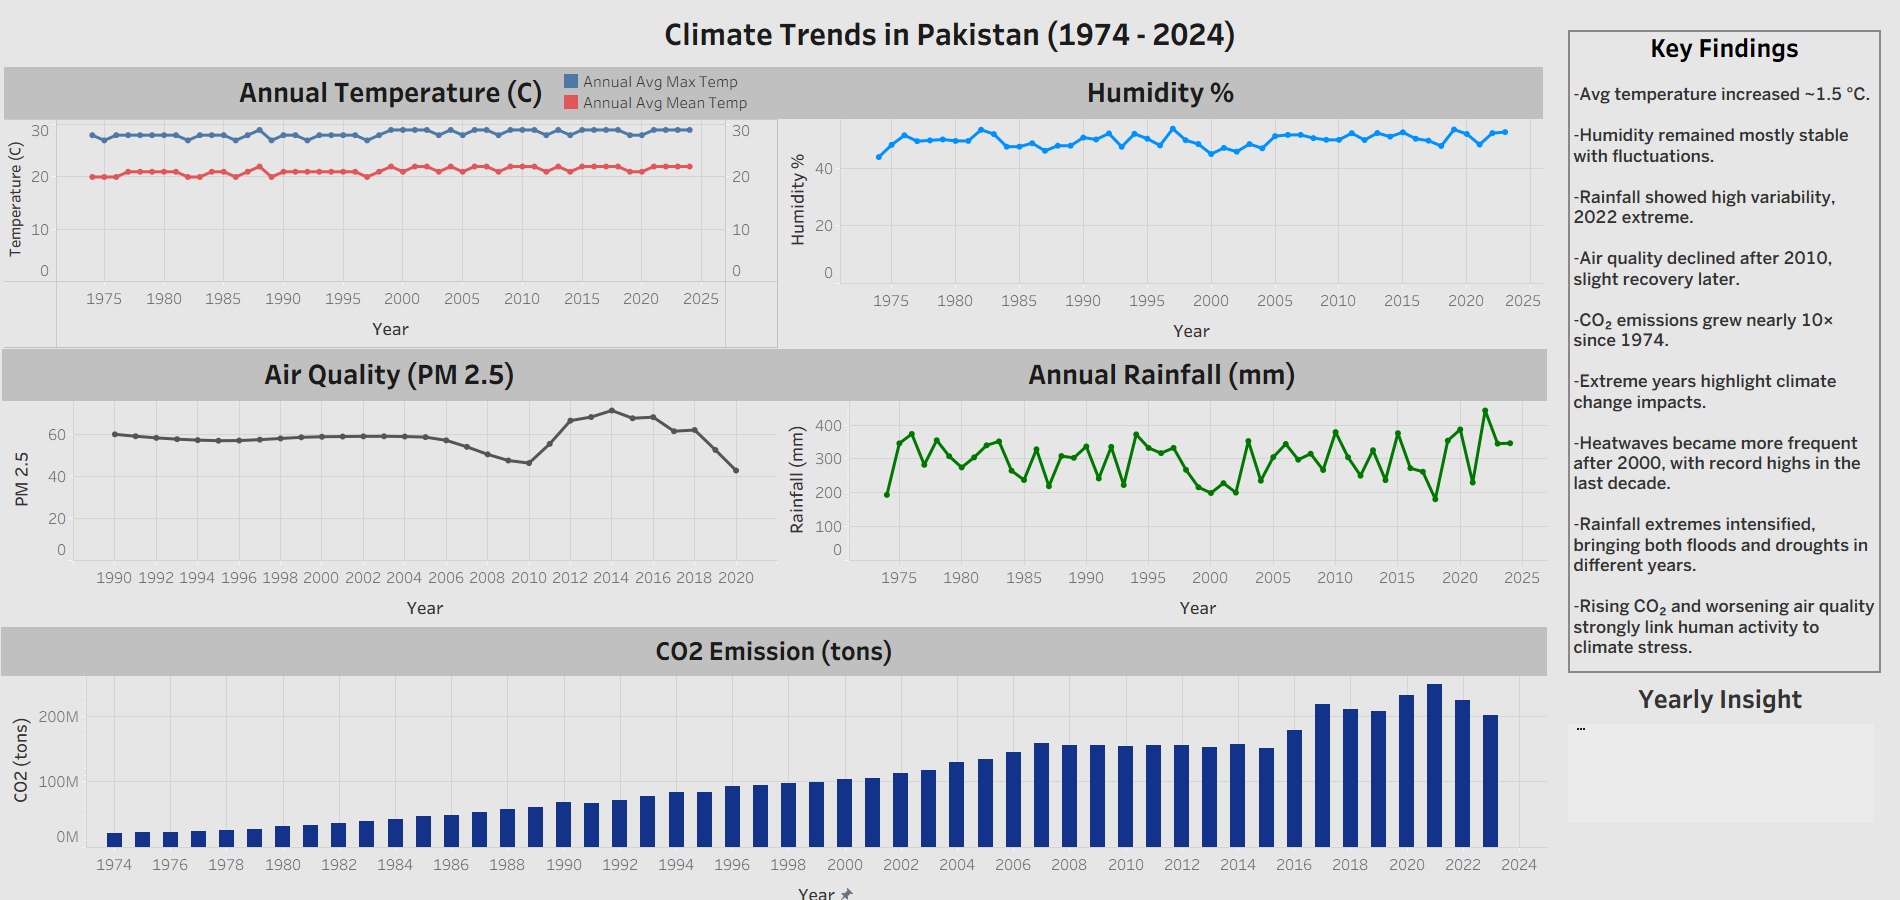

This screenshot's page, from the dashboard's own definition file:
{"tool":"tableau","page":{"name":"Dashboard 1","canvas":[1900,900],"ordinal":0},"visuals":[{"type":"title","box":[8,8,1884,49]},{"type":"text","box":[1568,30,313,643]},{"type":"worksheet","title":"Sheet 1","mark":"Line","rows":["annual avg max temp","annual avg mean temp"],"cols":["Year"],"box":[4,67,774,281]},{"type":"worksheet","title":"Sheet 5","mark":"Automatic","rows":["Humidity (relative humidity %)"],"cols":["Year"],"box":[778,67,765,282]},{"type":"legend","title":"Sheet 1","param":"[federated.0elwsf81eo32c112ysqih108333g].[:Measure Names]","box":[561,71,248,50]},{"type":"worksheet","title":"Sheet 2","mark":"Automatic","rows":["Air Quality (PM 2.5)"],"cols":["Year"],"box":[2,349,775,277]},{"type":"worksheet","title":"Sheet 4","mark":"Line","rows":["annual rainfall mm"],"cols":["Year"],"box":[777,349,770,277]},{"type":"worksheet","title":"Sheet 7","mark":"Automatic","rows":["Year"],"box":[750,603,118,6]},{"type":"worksheet","title":"Sheet 6","mark":"Automatic","box":[1568,675,312,171]}]}

Visuals, with their boxes in screenshot pixels (x1, y1, x2, y2), scaled from the page's 1900x900 canvas onto the 1900x900 screenshot:
title: (left=8, top=8, right=1892, bottom=57)
text: (left=1568, top=30, right=1881, bottom=673)
"Sheet 1" worksheet (Line marks): (left=4, top=67, right=778, bottom=348)
"Sheet 5" worksheet: (left=778, top=67, right=1543, bottom=349)
"Sheet 1" legend: (left=561, top=71, right=809, bottom=121)
"Sheet 2" worksheet: (left=2, top=349, right=777, bottom=626)
"Sheet 4" worksheet (Line marks): (left=777, top=349, right=1547, bottom=626)
"Sheet 7" worksheet: (left=750, top=603, right=868, bottom=609)
"Sheet 6" worksheet: (left=1568, top=675, right=1880, bottom=846)
